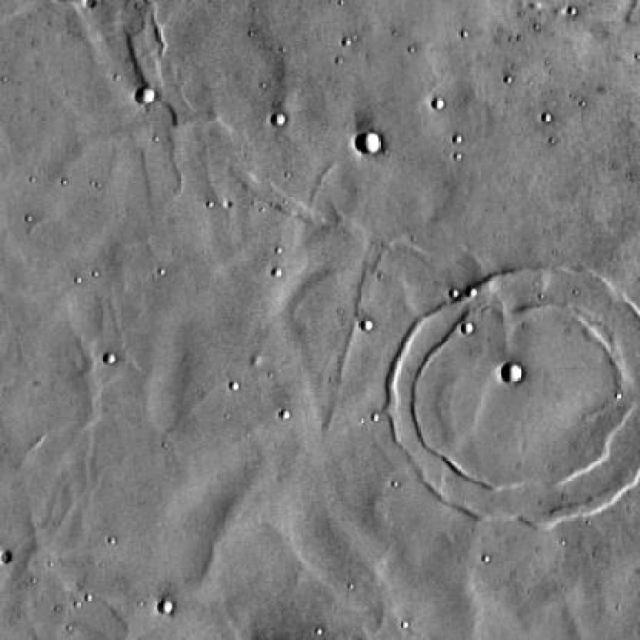crater: (395, 269, 640, 526), (357, 132, 383, 156), (502, 362, 526, 383), (136, 86, 156, 103)
